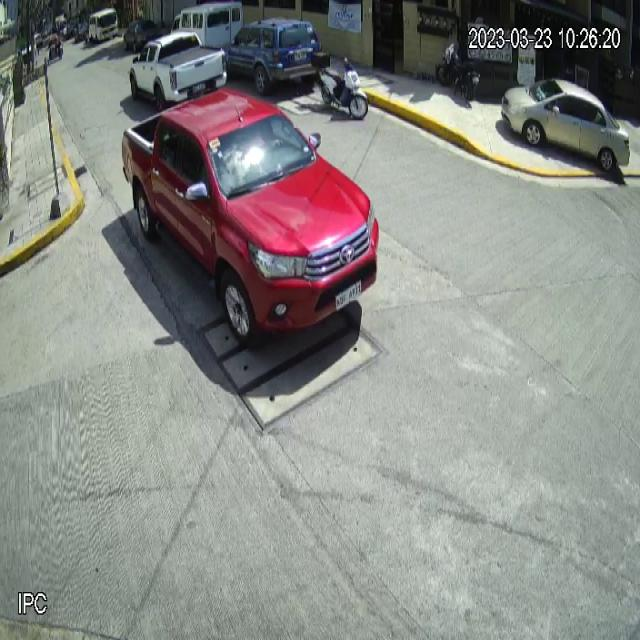Car: (120, 80, 382, 354), (501, 78, 630, 171), (227, 17, 321, 95)
Motorcycle: (312, 51, 368, 121)
Van: (169, 0, 242, 69)
